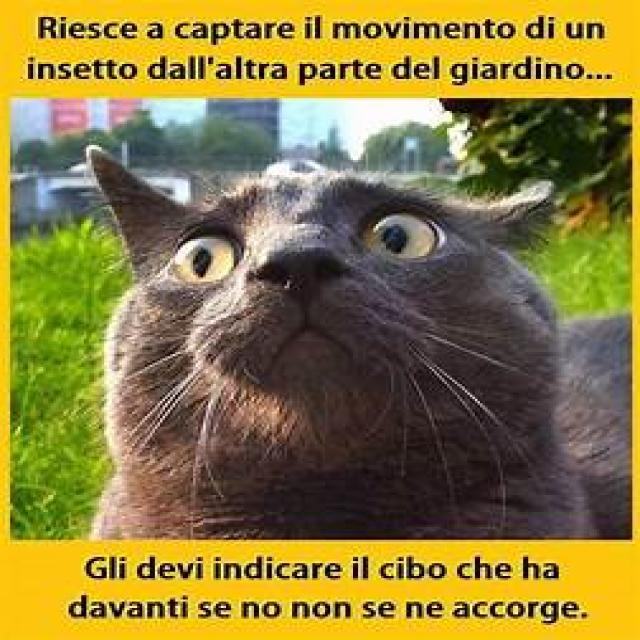animal: (66, 137, 602, 524)
